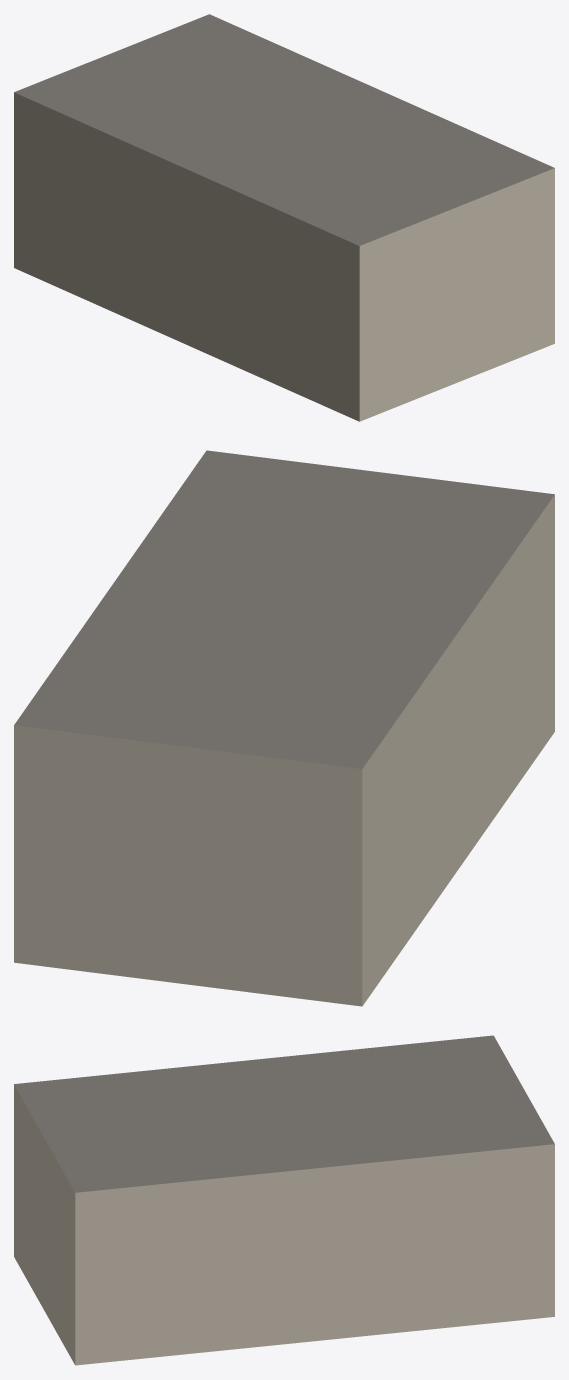
3 views of the same model, one above another, from view 1: azimuth 30°, elevation 25°; view 2: azimuth 150°, elevation 25°; view 3: azimuth 270°, elevation 25° (orthographic). The views are drawn at different scales.
Parts seen in each view (by area): view 1: HP-w702173478; view 2: HP-w702173478; view 3: HP-w702173478.
Boxes of the visible parts, x1,y1,x2,y2 form: HP-w702173478: [14, 14, 554, 421]; HP-w702173478: [14, 450, 554, 1006]; HP-w702173478: [14, 1035, 554, 1365].
Size of the model in its own units: 35.18 by 18 by 51.1.
